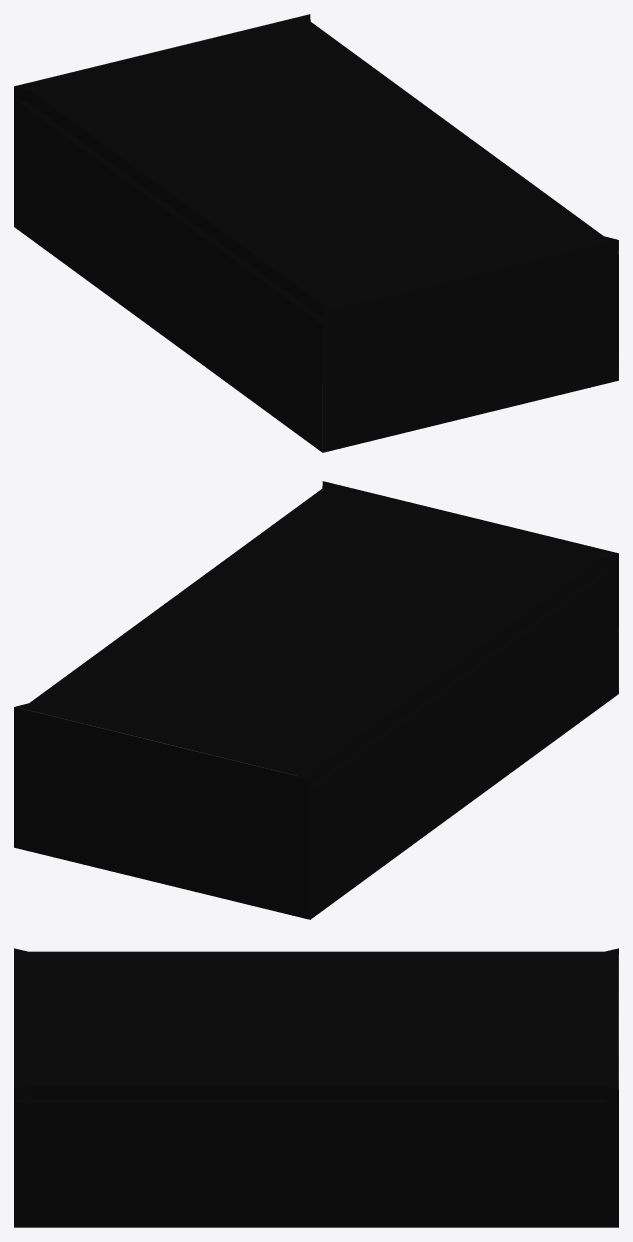
The picture shows the model from 3 angles, top to bottom: view 1: azimuth 30°, elevation 25°; view 2: azimuth 150°, elevation 25°; view 3: azimuth 270°, elevation 25°; orthographic projection. The views are drawn at different scales.
Visible parts, largest first — view 1: home; view 2: home; view 3: home.
Boxes of the visible parts, box(x1,y1,x2,y2) form: home: box(14, 14, 618, 452); home: box(14, 481, 618, 919); home: box(14, 948, 618, 1227).
Bounding box in the file's own units: 49.67 × 22.52 × 89.63.
